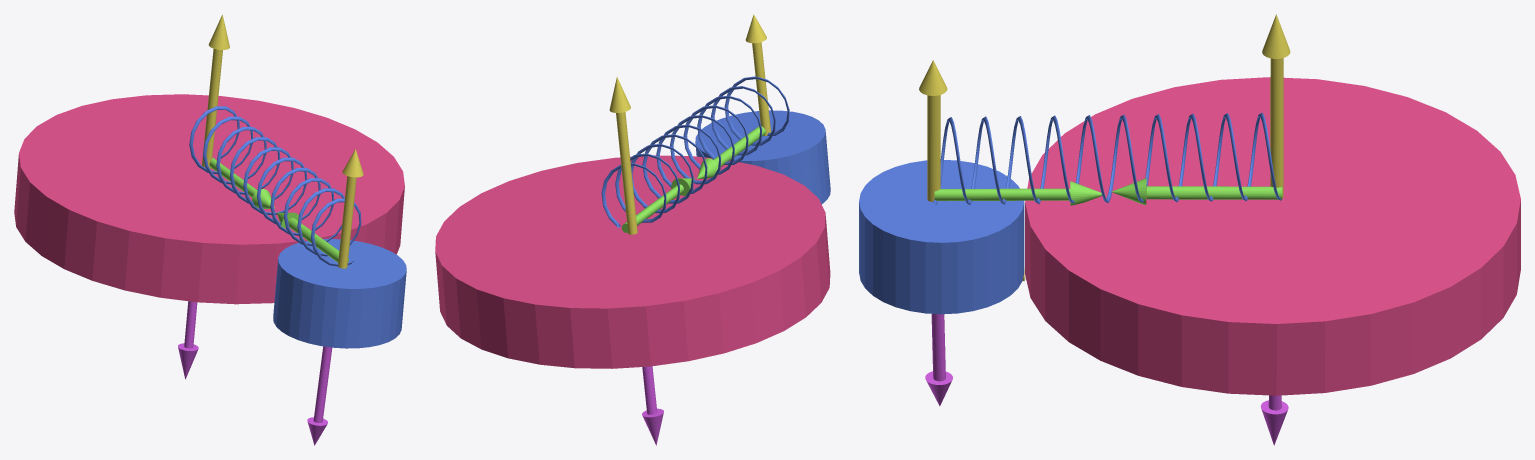
Rendered from cilindroVilaseca.glb.
3 renders of one model, left to right at view 1: azimuth 30°, elevation 25°; view 2: azimuth 150°, elevation 25°; view 3: azimuth 270°, elevation 25°, orthographic. The views are drawn at different scales.
Visible parts, largest first — view 1: Cylinder.001, Cylinder.006, Cylinder.003, Cylinder.005; view 2: Cylinder.001, Cylinder.006, Cylinder.003, Cylinder.005; view 3: Cylinder.001, Cylinder.006, Cylinder.003, Cylinder.005.
Part boxes in pixels (left/top/right/bottom): Cylinder.001: left=14, top=94, right=404, bottom=304; Cylinder.006: left=189, top=106, right=406, bottom=445; Cylinder.003: left=202, top=14, right=229, bottom=169; Cylinder.005: left=178, top=301, right=198, bottom=379; Cylinder.001: left=435, top=155, right=830, bottom=368; Cylinder.006: left=601, top=14, right=830, bottom=232; Cylinder.003: left=609, top=77, right=637, bottom=234; Cylinder.005: left=642, top=366, right=663, bottom=445; Cylinder.001: left=1025, top=77, right=1520, bottom=395; Cylinder.006: left=859, top=60, right=1282, bottom=406; Cylinder.003: left=1262, top=14, right=1290, bottom=197; Cylinder.005: left=1260, top=395, right=1288, bottom=445.
Size of the model in its own units: 6.06 by 6.08 by 8.01.
